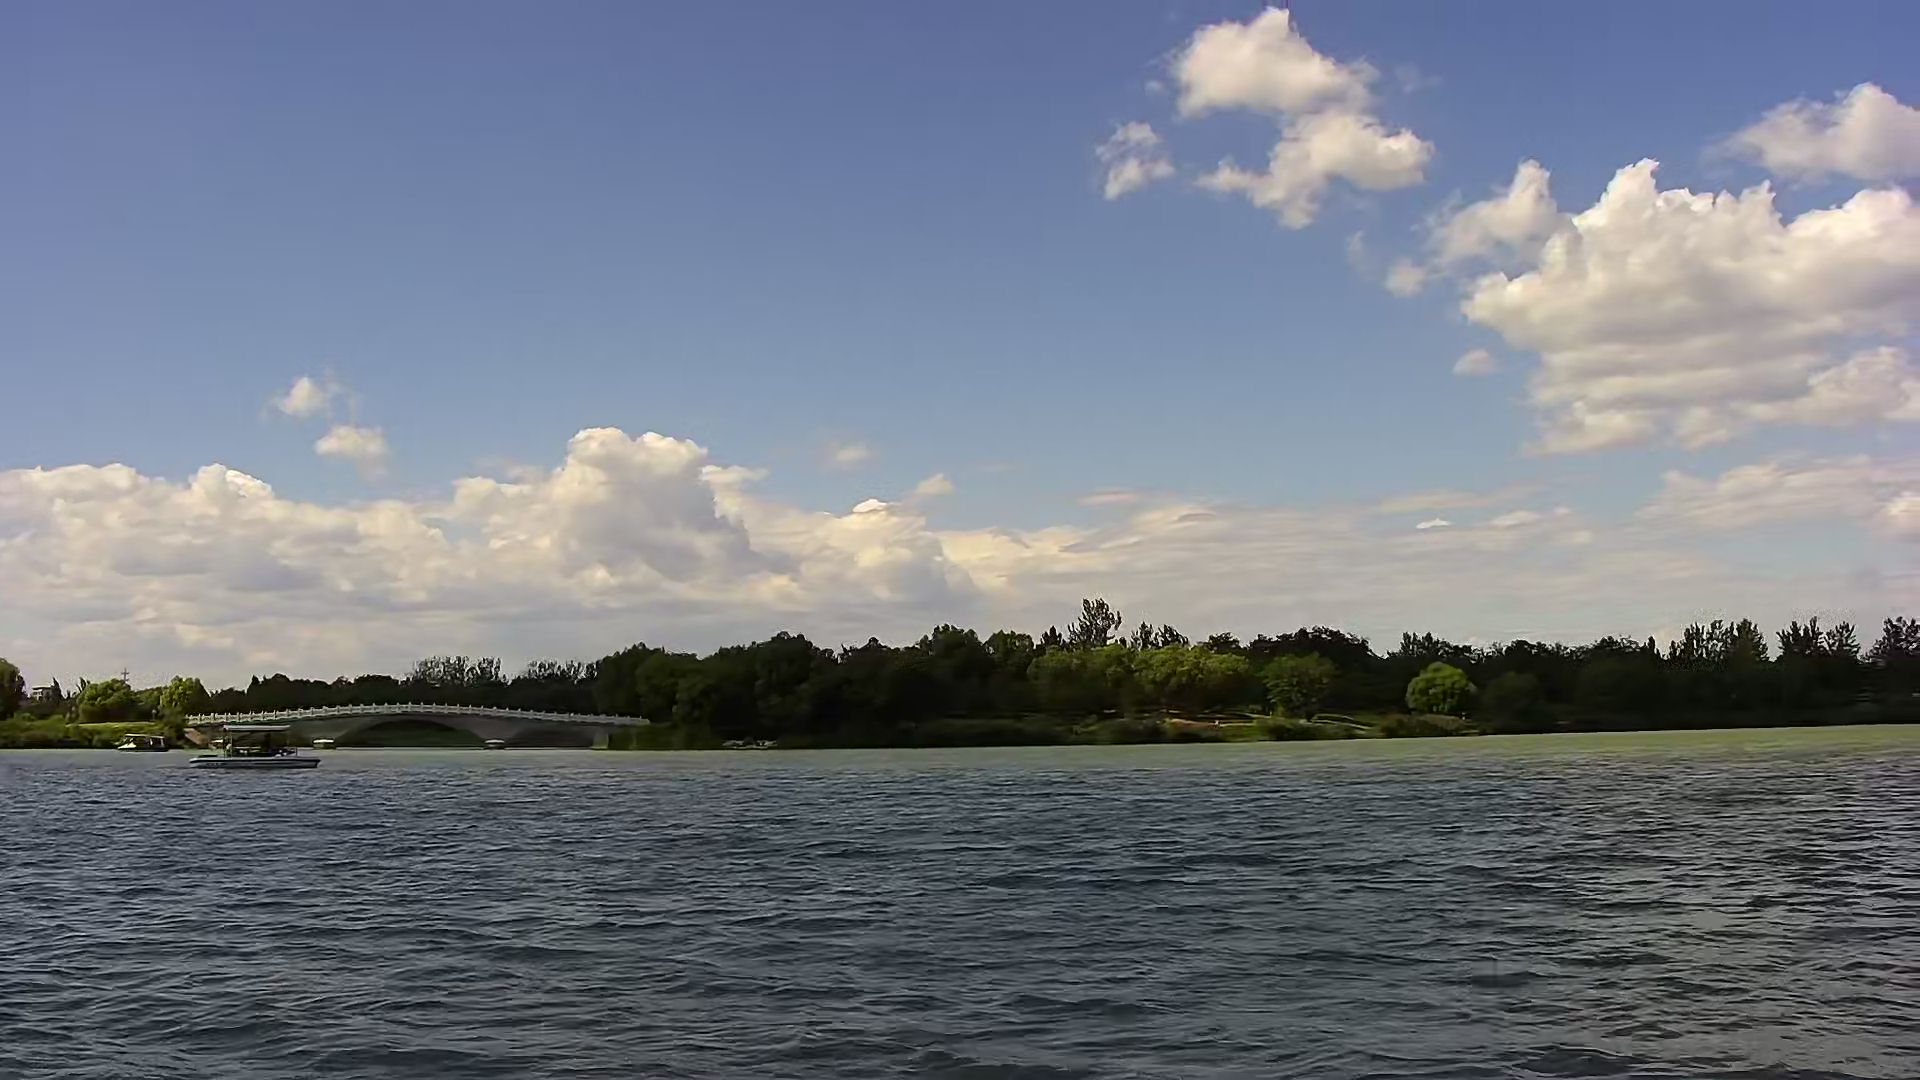boat: (185, 724, 313, 773)
bridge: (291, 700, 651, 758)
